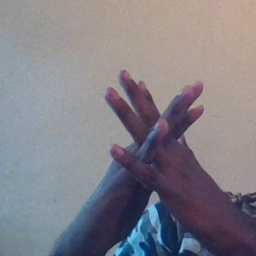W: (83, 59, 225, 222)
